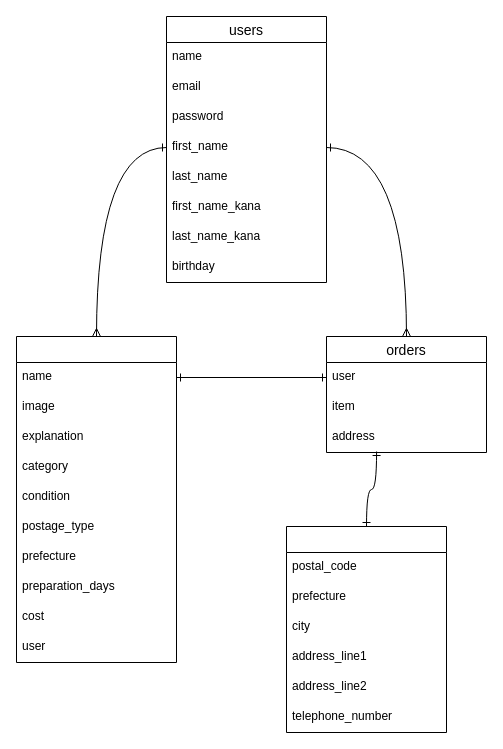
Image size: 503x749. Some labels were removed from this diagram. Here are the shapes that lost their labels. From the top down, the box of each, then its label:
(16, 336, 176, 662): items
(286, 526, 446, 732): addresses
